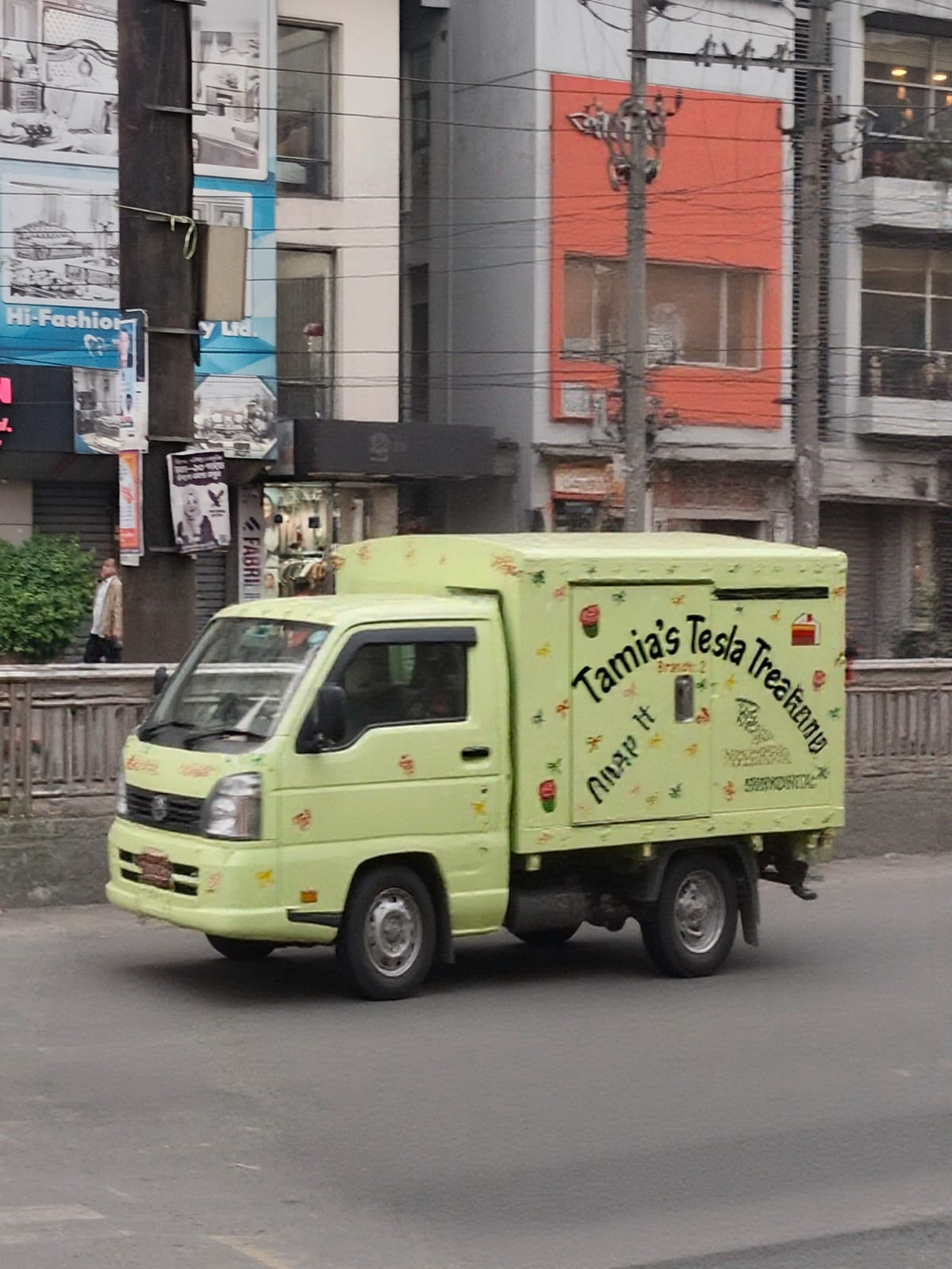Pickup: (87, 517, 875, 991)
